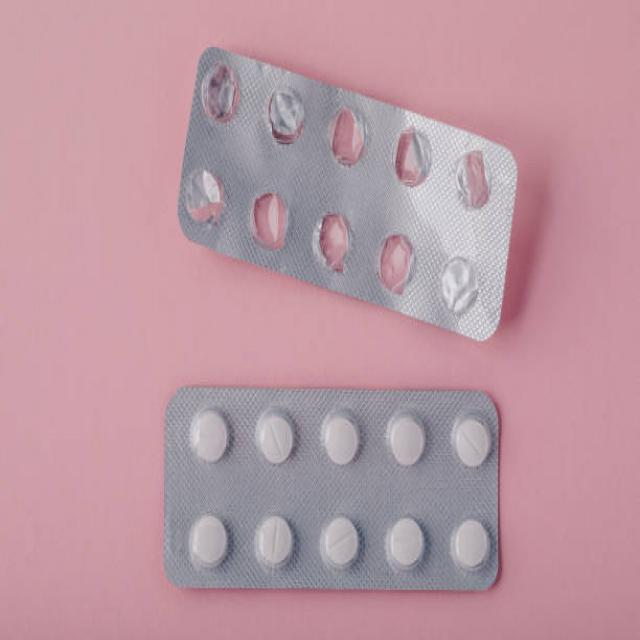Empty: (242, 172, 298, 262), (304, 194, 357, 279), (435, 247, 487, 332), (197, 50, 247, 131), (445, 146, 504, 211), (263, 67, 307, 153), (325, 94, 372, 170), (183, 160, 228, 238), (392, 123, 434, 195), (376, 228, 418, 298)
Pill: (244, 505, 304, 580), (382, 402, 436, 481), (318, 402, 370, 479), (314, 503, 368, 576), (382, 513, 438, 582), (189, 391, 236, 473), (255, 392, 299, 478), (448, 505, 495, 580), (185, 502, 232, 577), (449, 409, 492, 481)
